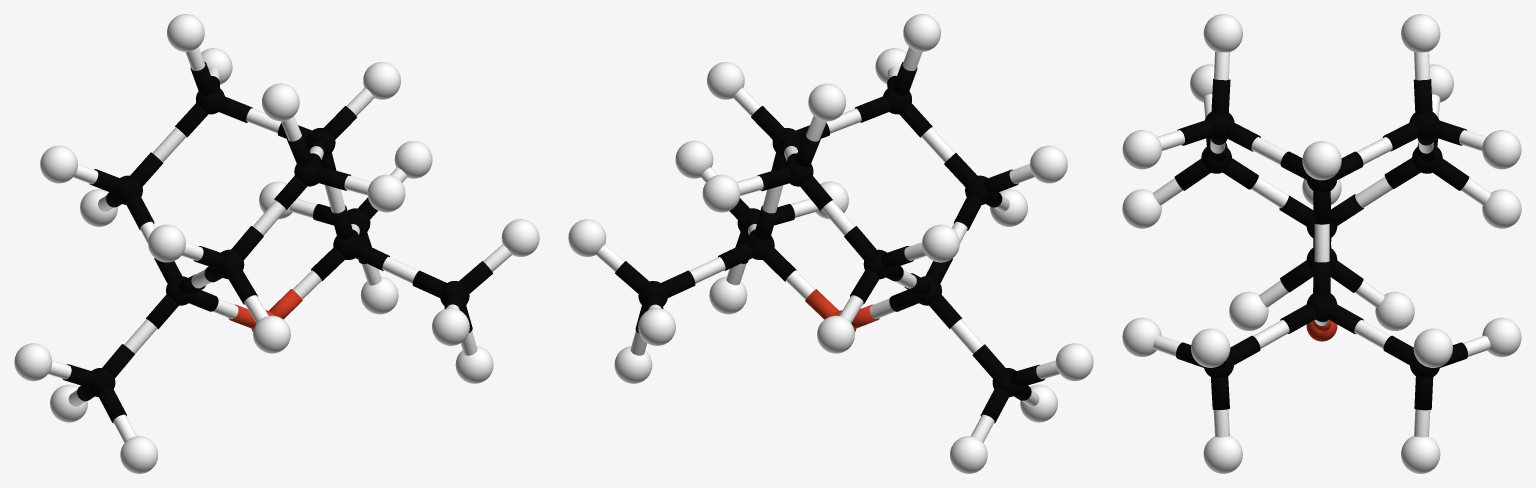
File: Eucalyptol.dae
The picture shows the model from 3 angles, left to right: view 1: azimuth 30°, elevation 25°; view 2: azimuth 150°, elevation 25°; view 3: azimuth 270°, elevation 25°; orthographic projection. The views are drawn at different scales.
Visible parts, largest first — view 1: Hydrogene_013, Hydrogene_017, Hydrogene_007, Hydrogene_009, Hydrogene_015, Hydrogene_014, Hydrogene_006, Hydrogene_011, Hydrogene_016, Hydrogene_001, Hydrogene_012, Hydrogene_002 (+17 smaller); view 2: Hydrogene_009, Hydrogene_011, Hydrogene_015, Hydrogene_010, Hydrogene_007, Hydrogene_008, Hydrogene_014, Hydrogene_004, Hydrogene_005, Hydrogene_002, Hydrogene_012, Hydrogene_001 (+17 smaller); view 3: Hydrogene_013, Hydrogene_010, Hydrogene_012, Hydrogene_002, Hydrogene_001, Hydrogene_011, Hydrogene_014, Hydrogene_000, Hydrogene_008, Hydrogene_017, Hydrogene_03, Hydrogene_005 (+49 smaller).
Part boxes in pixels (x1,y1,x2,y2): Hydrogene_013: (367,174,405,212); Hydrogene_017: (253,315,290,353); Hydrogene_007: (14,343,52,381); Hydrogene_009: (40,145,77,183); Hydrogene_015: (148,224,185,262); Hydrogene_014: (262,83,299,121); Hydrogene_006: (120,436,157,473); Hydrogene_011: (167,14,204,51); Hydrogene_016: (432,308,469,345); Hydrogene_001: (501,219,539,256); Hydrogene_012: (363,62,400,99); Hydrogene_002: (394,141,432,178); Hydrogene_009: (922,224,959,262); Hydrogene_011: (808,83,845,121); Hydrogene_015: (1030,145,1067,183); Hydrogene_010: (702,174,740,212); Hydrogene_007: (1055,343,1093,381); Hydrogene_008: (817,315,854,353); Hydrogene_014: (903,14,940,51); Hydrogene_004: (638,308,675,345); Hydrogene_005: (950,436,987,473); Hydrogene_002: (568,219,606,256); Hydrogene_012: (707,62,744,99); Hydrogene_001: (675,140,713,178); Hydrogene_013: (1122,130,1161,169); Hydrogene_010: (1482,130,1521,169); Hydrogene_012: (1302,141,1341,180); Hydrogene_002: (1413,328,1452,367); Hydrogene_001: (1191,328,1230,367); Hydrogene_011: (1401,14,1440,52); Hydrogene_014: (1203,14,1242,52); Hydrogene_000: (1203,436,1242,473); Hydrogene_008: (1482,189,1521,228); Hydrogene_017: (1122,189,1161,228); Hydrogene_03: (1401,436,1440,473); Hydrogene_005: (1375,291,1414,330).
Bounding box in the file's own units: 6.73 × 4.79 × 5.02.
